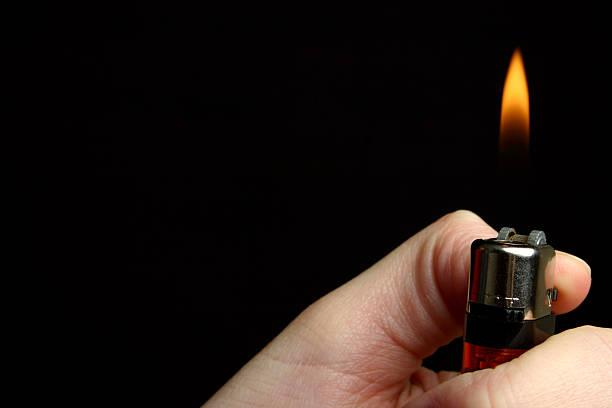Fire: (497, 46, 533, 192)
